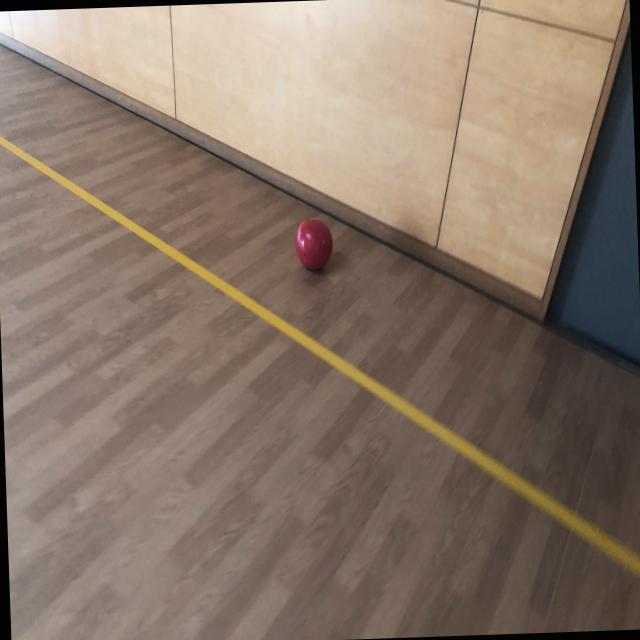red_ball: (294, 217, 332, 270)
